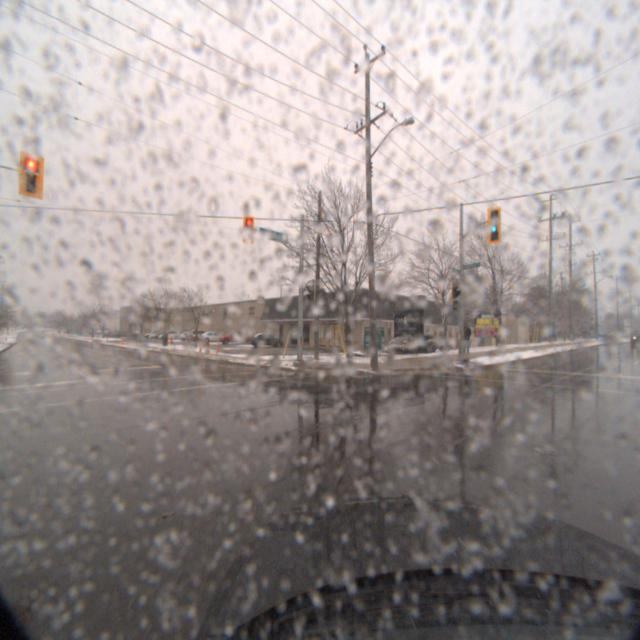Car: (250, 332, 287, 349), (220, 330, 254, 346), (200, 332, 230, 344)
Pedestrian: (458, 320, 476, 354)
